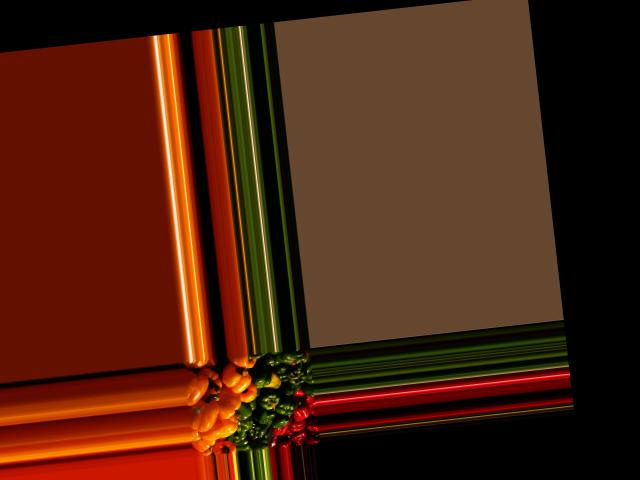bell_pepper: (287, 346, 311, 365)
